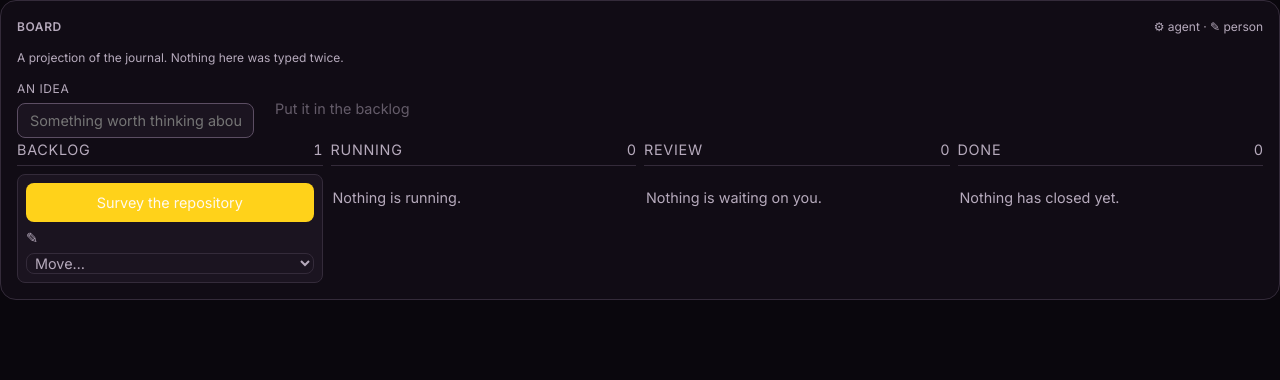
Scenario: a command that REJECTS puts the card back › a REFUSAL still behaves as it already did — this is not a rewrite of that path
Select "Running" in the dropdown with class "task-card-move" at (170, 263), box [26, 253, 314, 274]
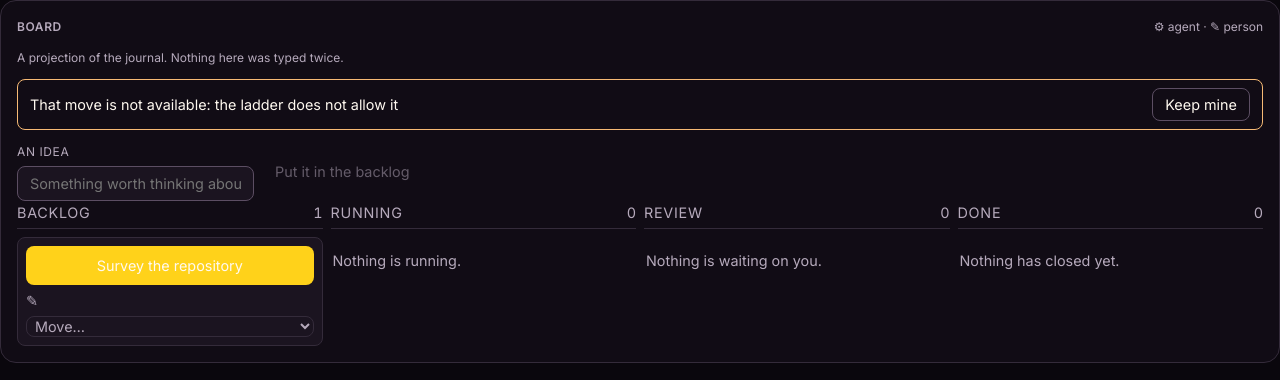
Check: the text "Backlog" is shown, box [17, 201, 90, 224]
Check: the message "That move is not available: the ladder does not allow it Keep mine" is shown, box [17, 79, 1263, 130]
Check: the message shows "the ladder does not allow it", box [30, 96, 398, 113]
